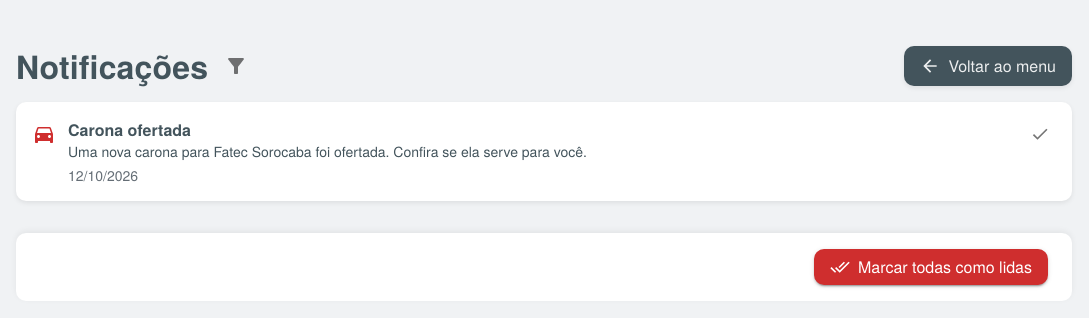
Test: Notifications › should warn and stay when the ride was removed, still marking the notice as read
Step 1. Click the text "Uma nova carona para Fatec Sorocaba foi ofertada. Confira se ela serve para você." → (327, 152), box [68, 142, 587, 162]
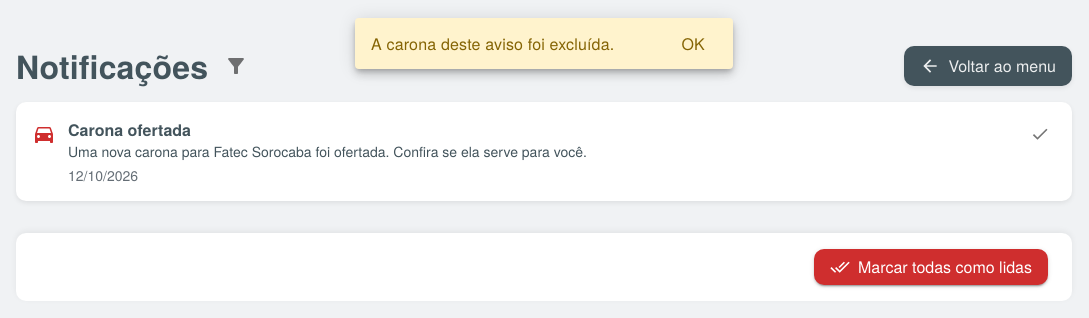
Check: the text "A carona deste aviso foi excluída." is shown, box [371, 32, 614, 55]
